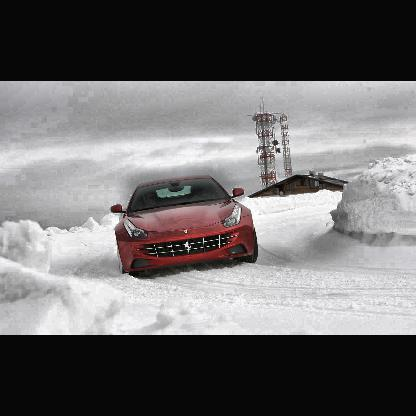Ferrari FF Coupe 2012: (107, 172, 261, 281)
